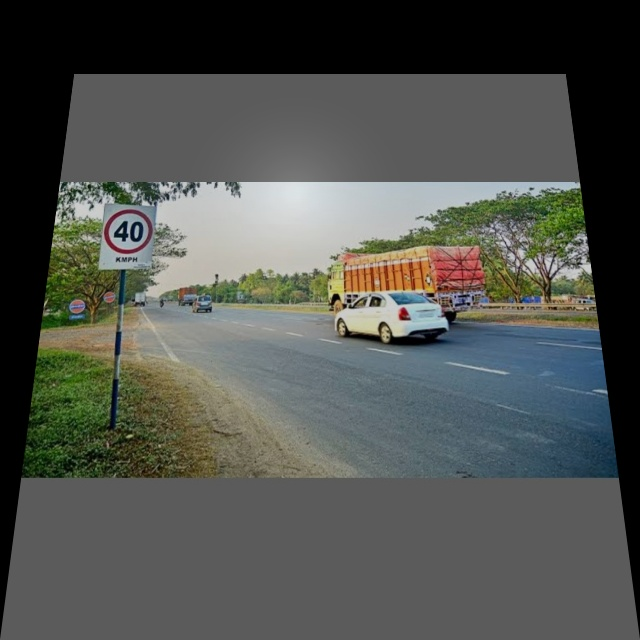Speed_Limit_40: (98, 201, 159, 273)
